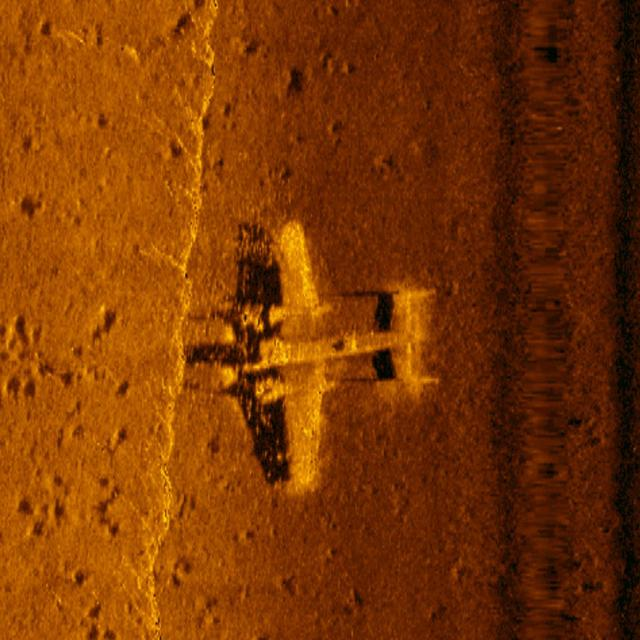plane: (207, 206, 448, 508)
